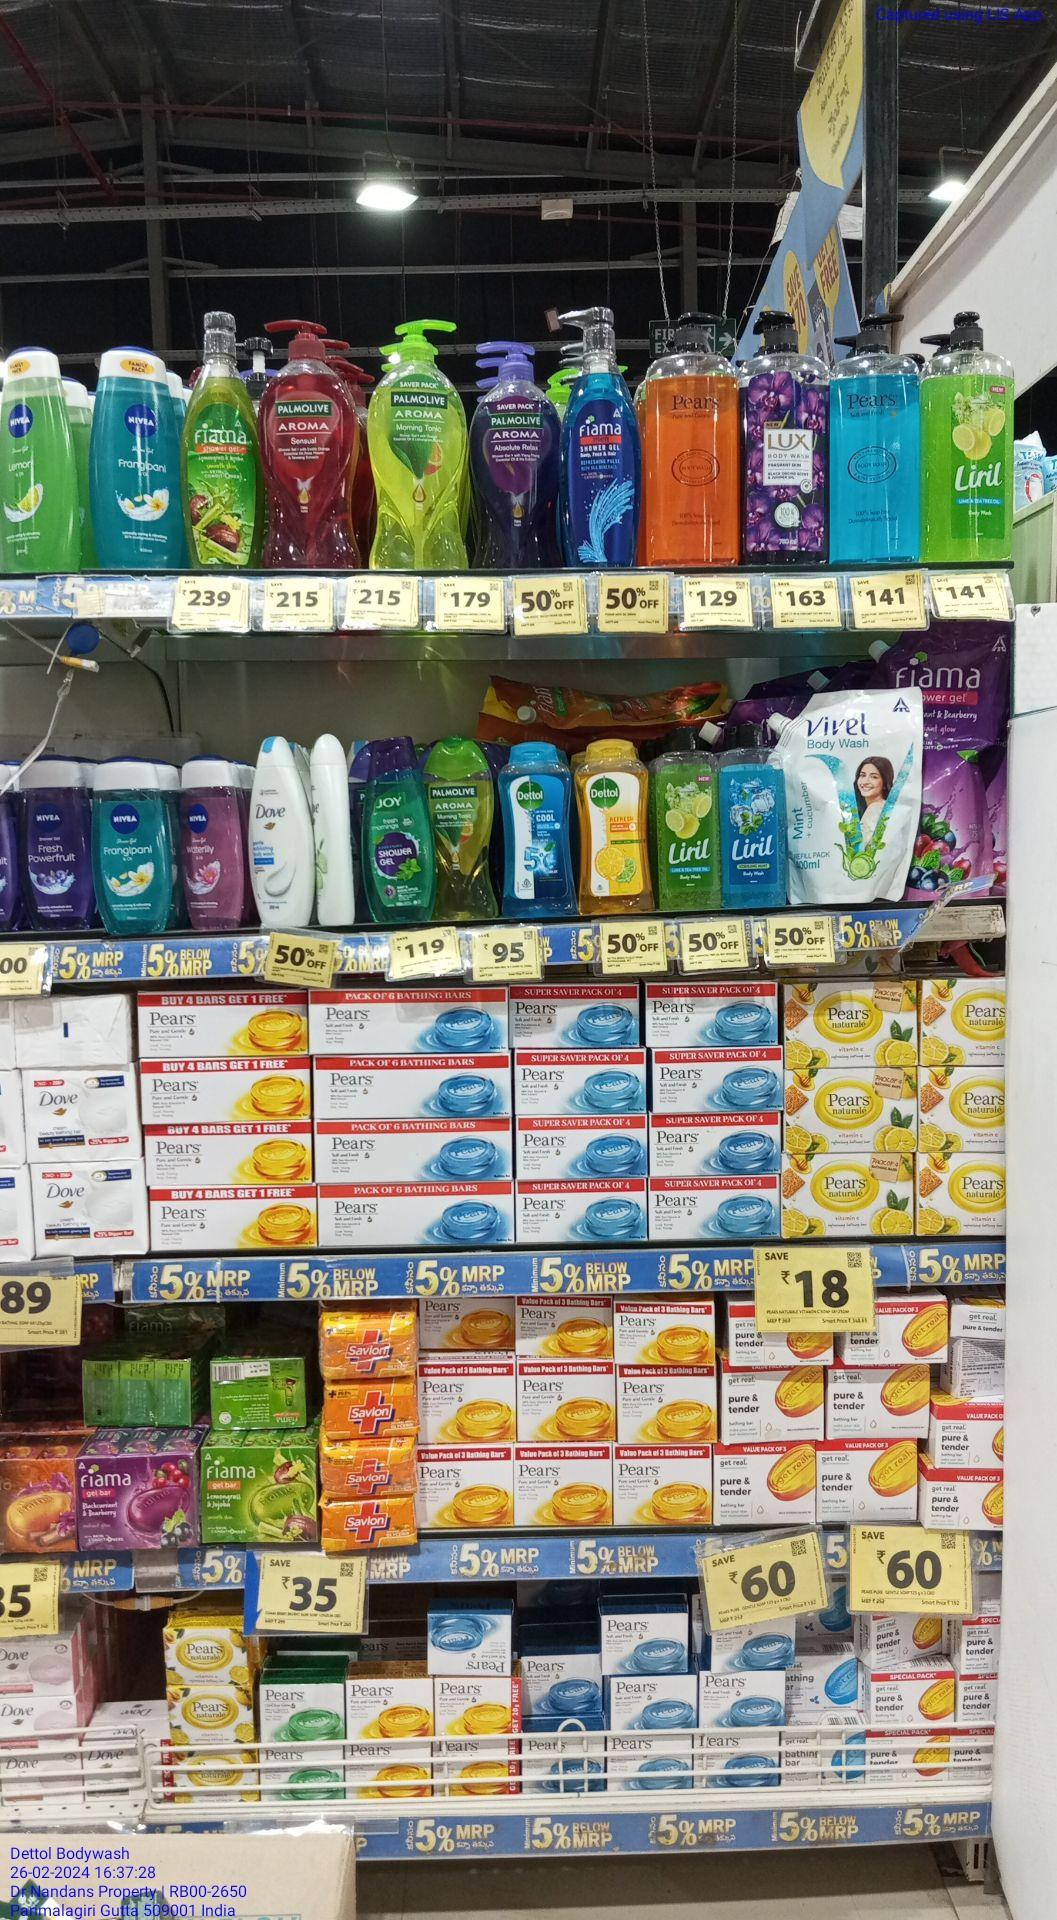Dettol_Bodywash_Cool: (502, 743, 573, 920)
Dettol_Bodywash_Refresh: (581, 741, 652, 912)
Dove_Gentle_Exfoliating_Body_Wash_250ML: (251, 741, 314, 929)
Joy_Shower_Gel_Mint_and_Eucalyptus_250ML: (361, 741, 430, 922)
Nivea_Shower_Gel_Frangipani_and_Oil_250ML: (96, 760, 163, 932)
Nivea_Shower_Gel_Fresh_Powerfruit_250ML: (22, 758, 90, 929)
Nivea_Shower_Gel_Waterlily_and_Oil_250ML: (181, 759, 240, 927)
Palmolive_Aroma_Morning_Tonic_Shower_Gel_250ML: (433, 737, 497, 922)
